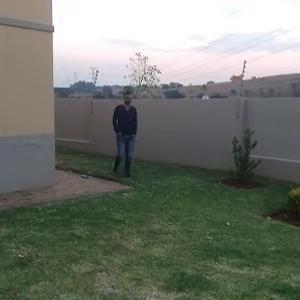follow: (107, 87, 139, 181)
